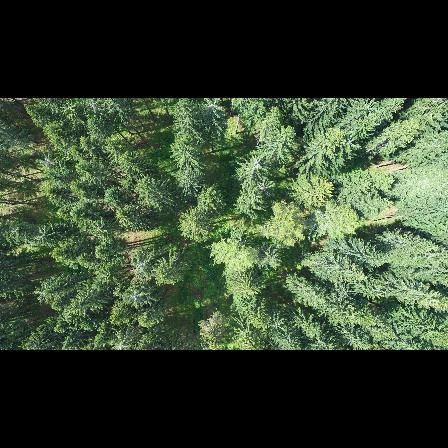Sick: (130, 249, 156, 277), (107, 331, 136, 350), (36, 151, 59, 173), (265, 315, 288, 335), (201, 98, 225, 117), (248, 153, 267, 175), (89, 220, 109, 240)
